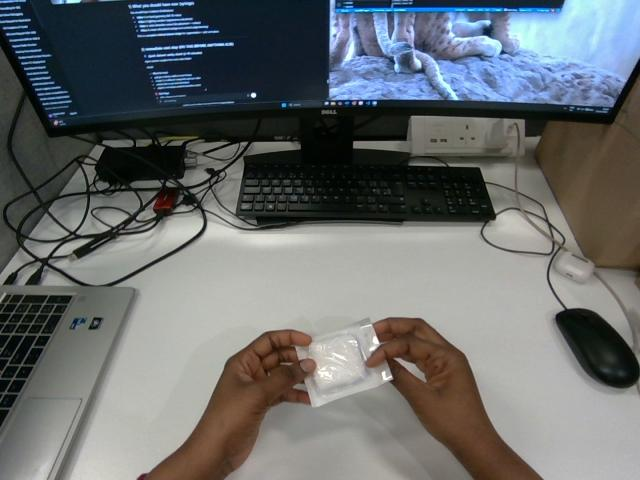gauze: (296, 319, 392, 406)
